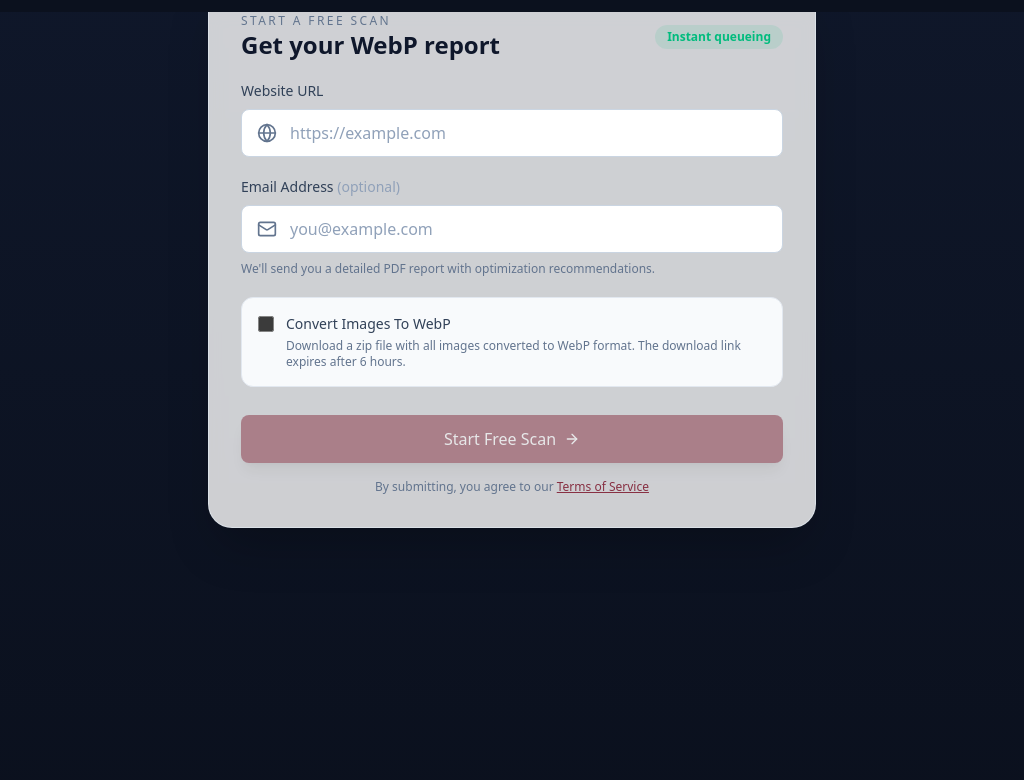
Test: ScanForm › URL Validation - UI Integration › should show error for invalid URL format
Type "not-a-valid-url" into the field labelled "Website URL" at (512, 133), box [241,109,783,157]
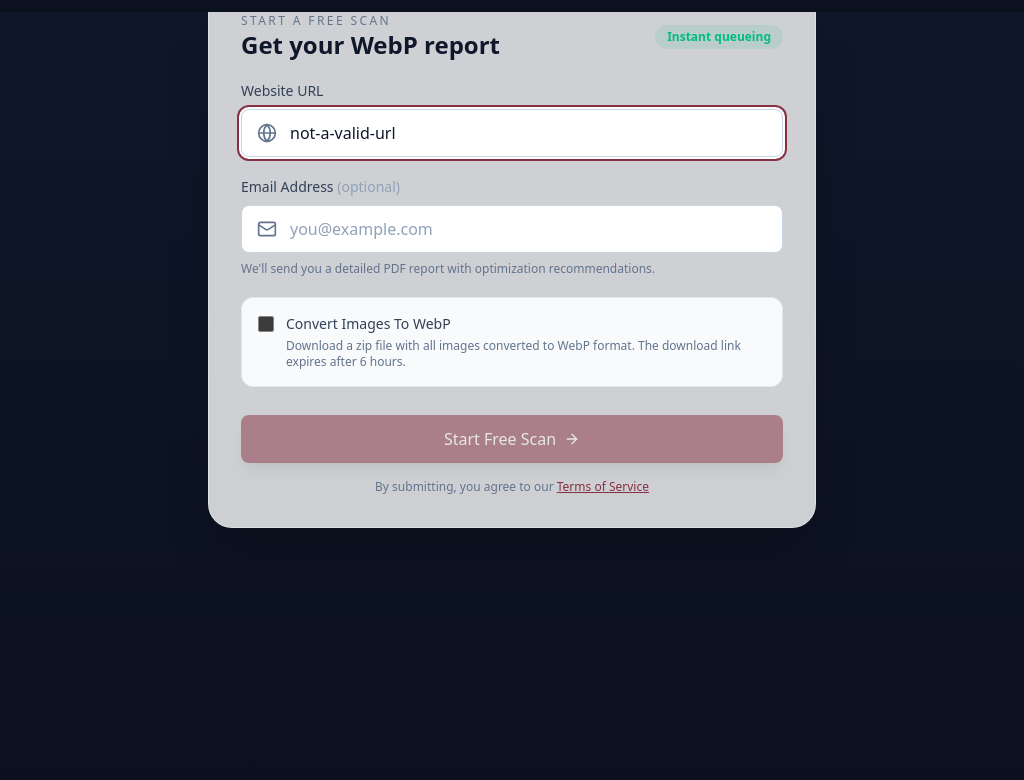
Press Tab
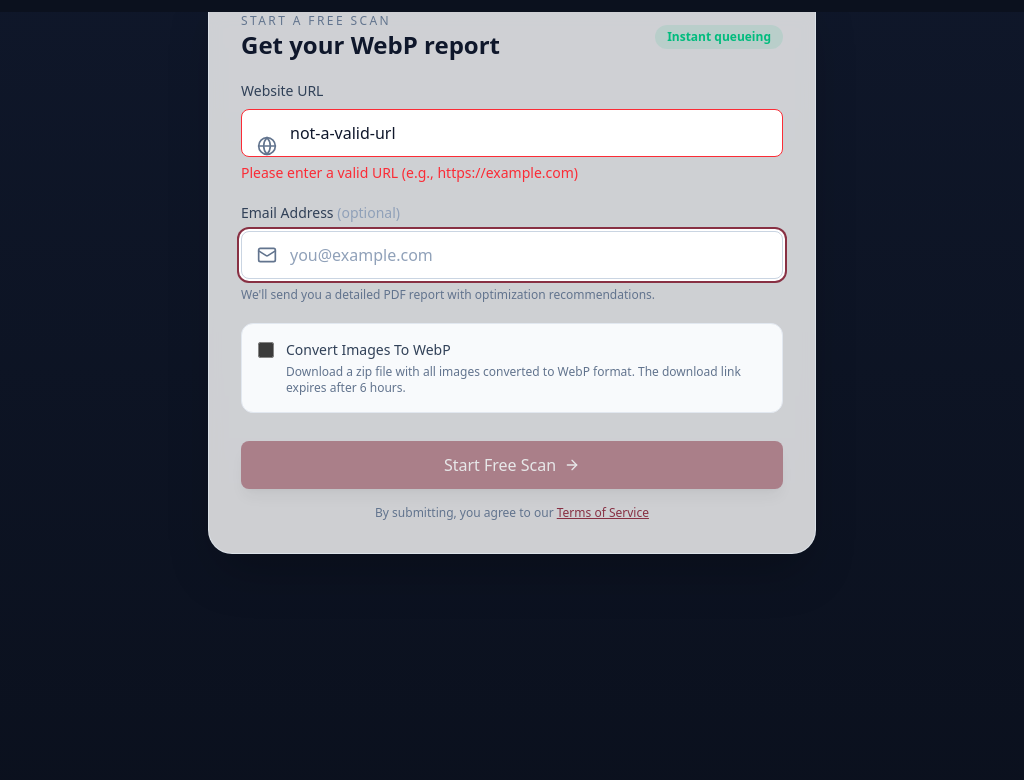
Result: the text "Please enter a valid URL (e.g., https://example.com)" is shown at [241,163,578,182]
